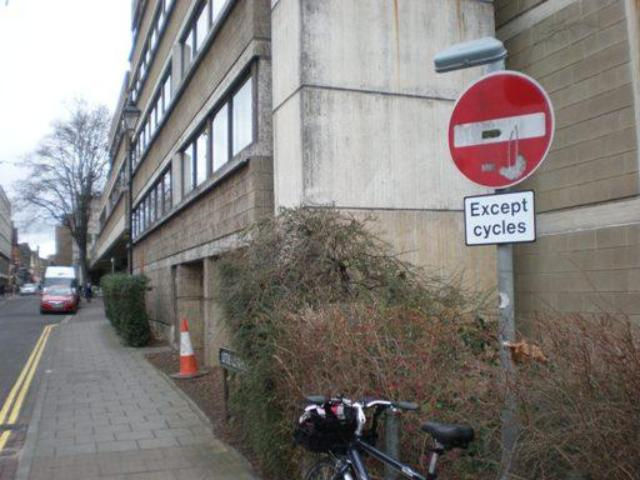B2: (446, 68, 556, 188)
